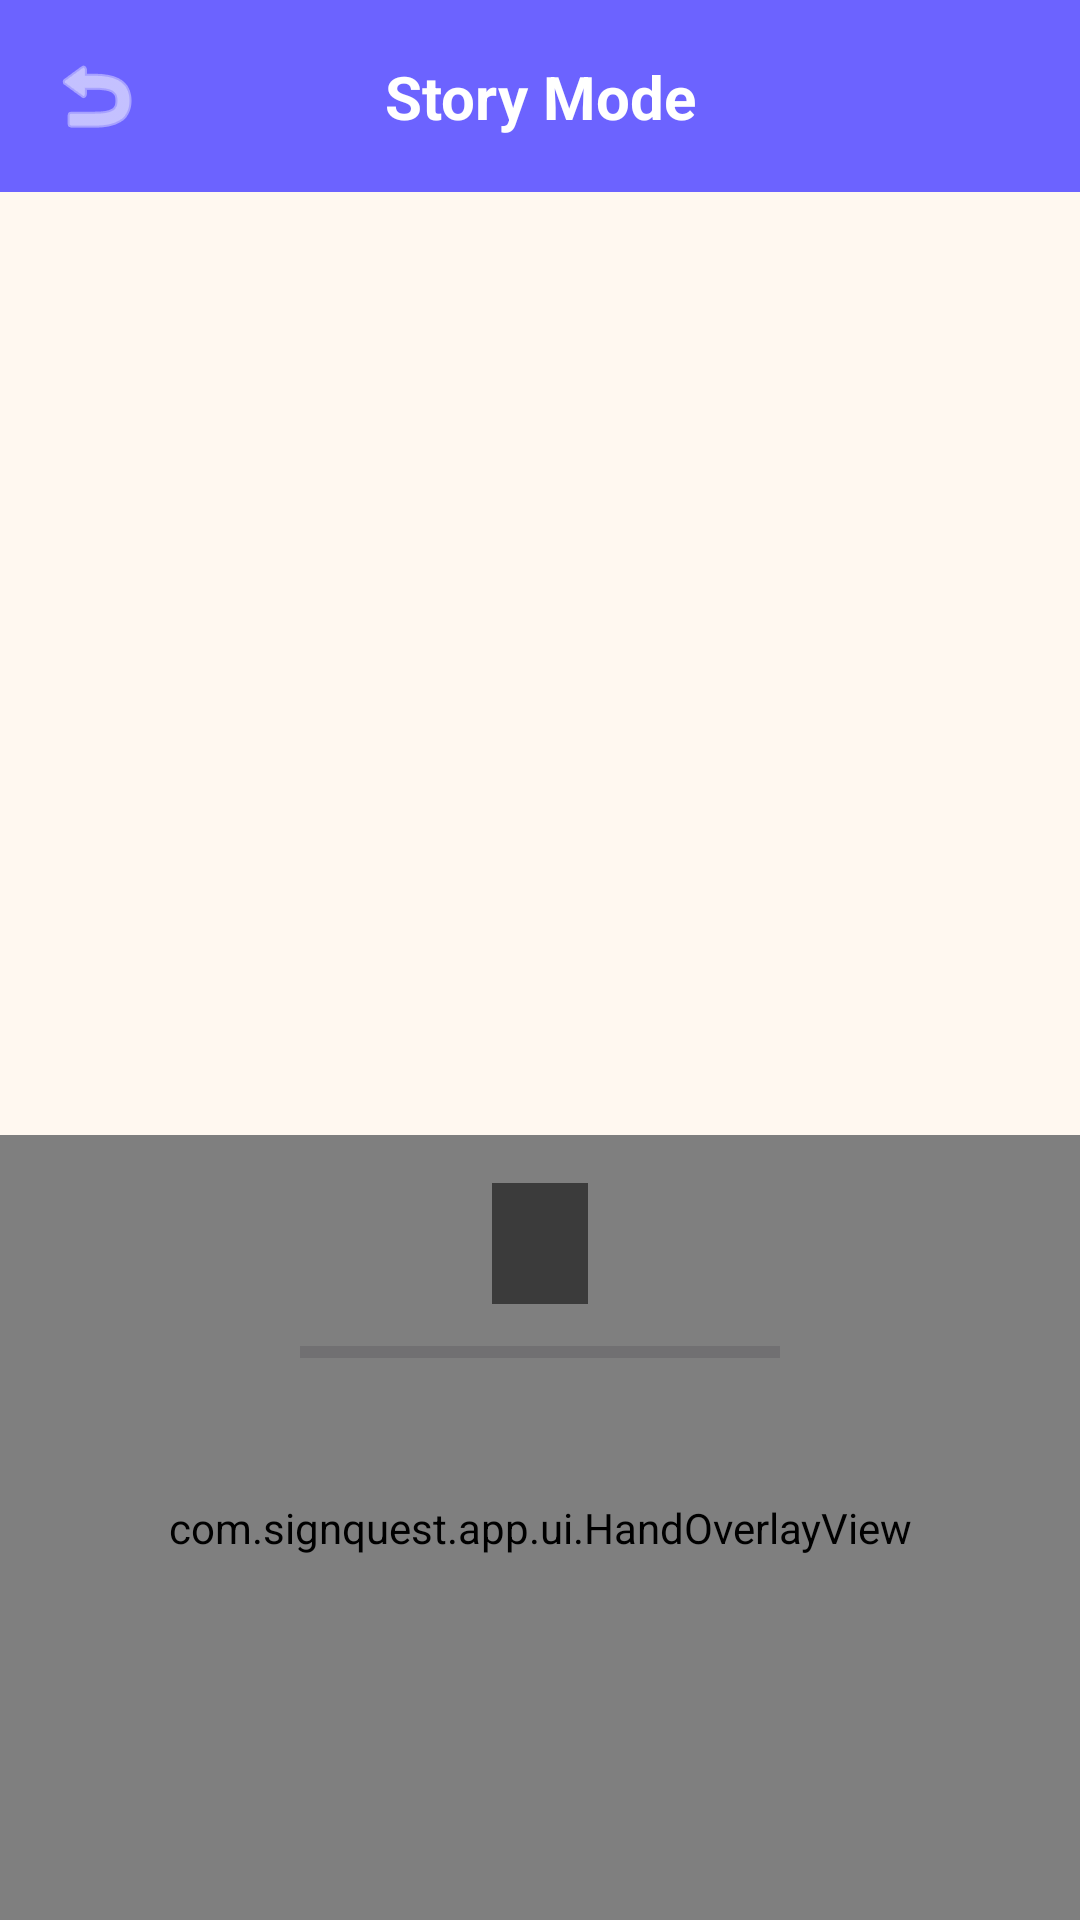

Icon click points for this 1080 x 1920 phone screenshot, format (x,y):
revert: (97,97)
